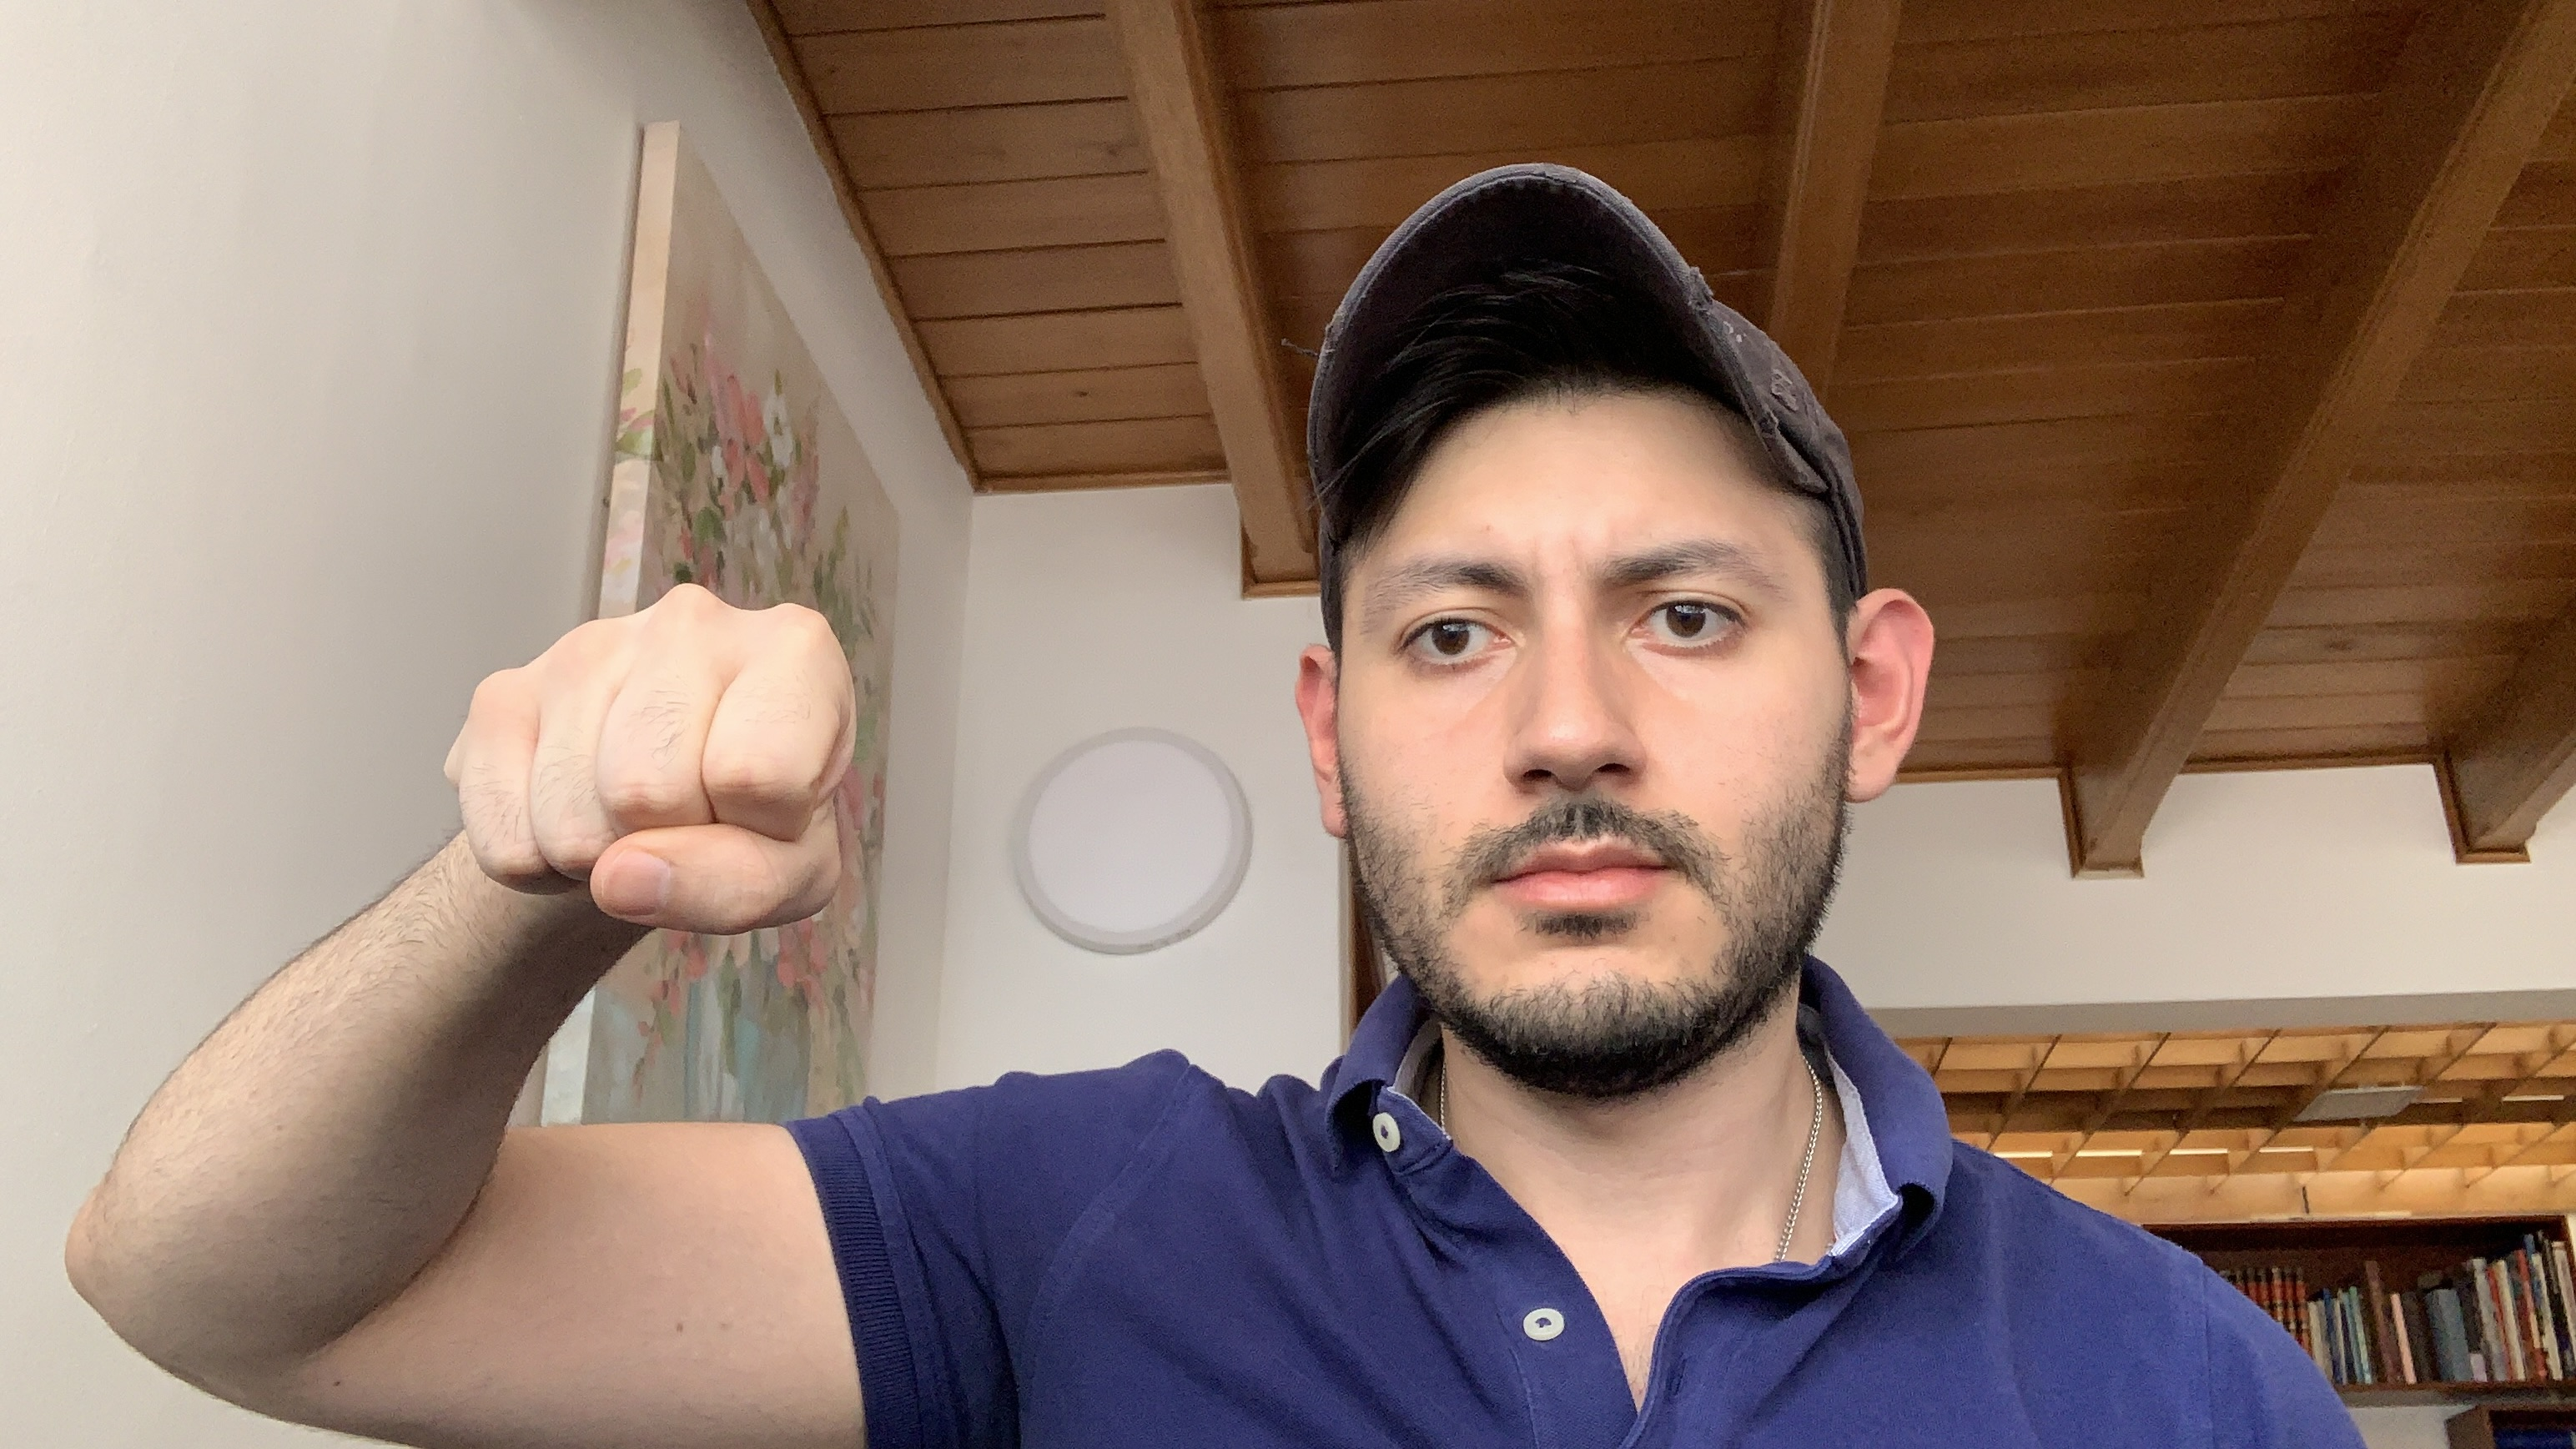Yes: (433, 577, 860, 952)
